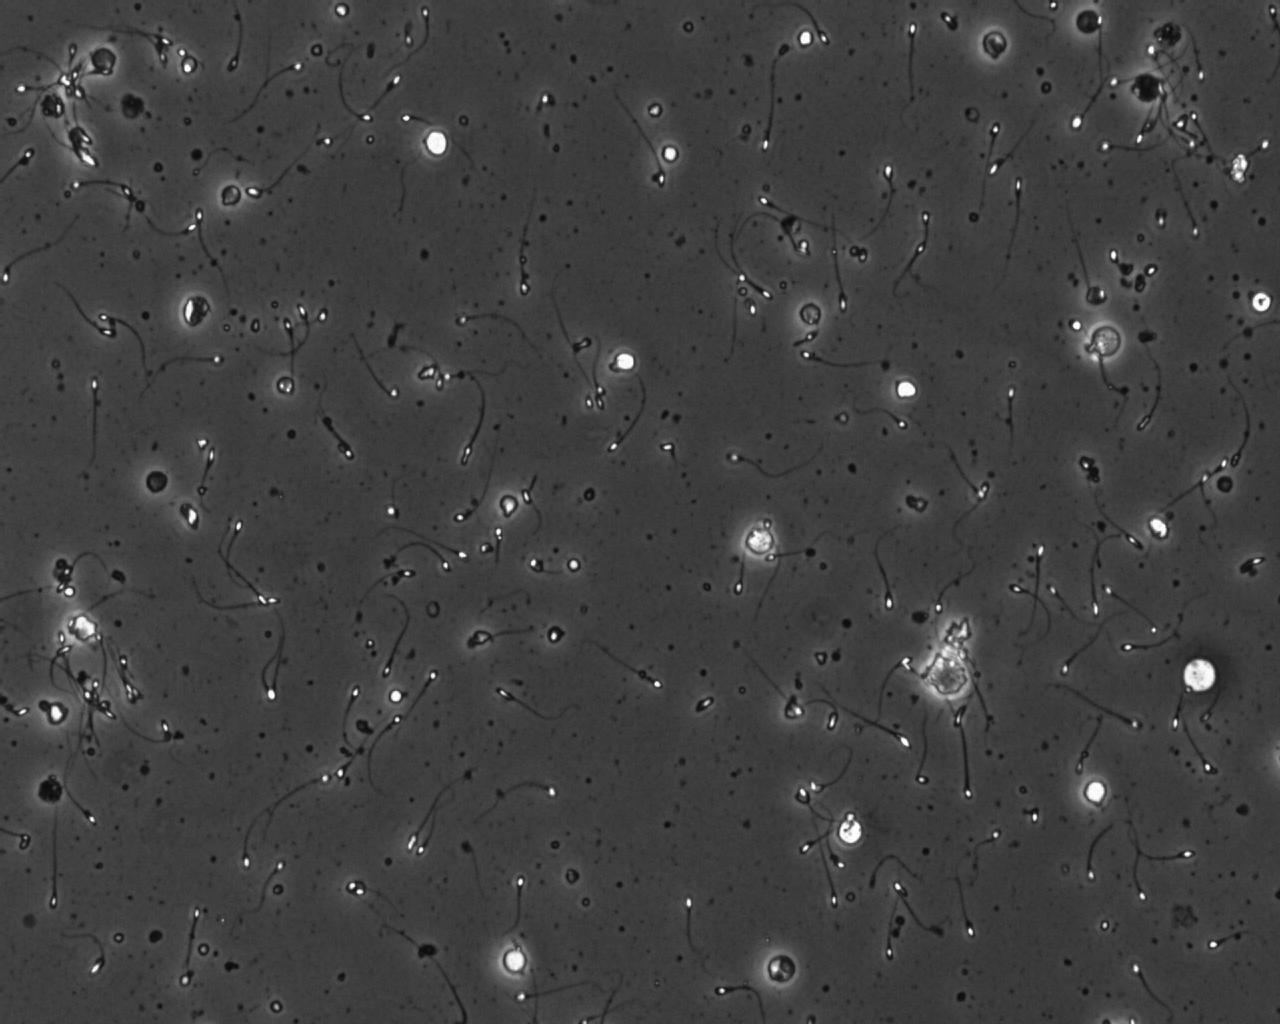cell: (917, 649, 975, 703), (1173, 648, 1225, 702), (1085, 320, 1127, 362), (1126, 67, 1168, 108), (762, 948, 802, 990), (176, 289, 215, 331), (62, 608, 103, 647), (740, 522, 781, 561), (833, 814, 867, 848), (978, 27, 1011, 62), (86, 42, 120, 75), (420, 126, 453, 160), (1071, 5, 1106, 37), (499, 944, 531, 977), (118, 89, 148, 123), (1143, 512, 1174, 544), (33, 774, 66, 806), (38, 90, 69, 121), (1080, 776, 1112, 808), (142, 466, 172, 498), (1246, 286, 1276, 318), (795, 299, 827, 329), (42, 697, 71, 729), (216, 180, 245, 210), (495, 490, 523, 518), (610, 348, 639, 375), (892, 376, 922, 403), (272, 372, 299, 398), (657, 141, 683, 167), (1212, 471, 1238, 497), (793, 25, 818, 52), (560, 864, 584, 888)
